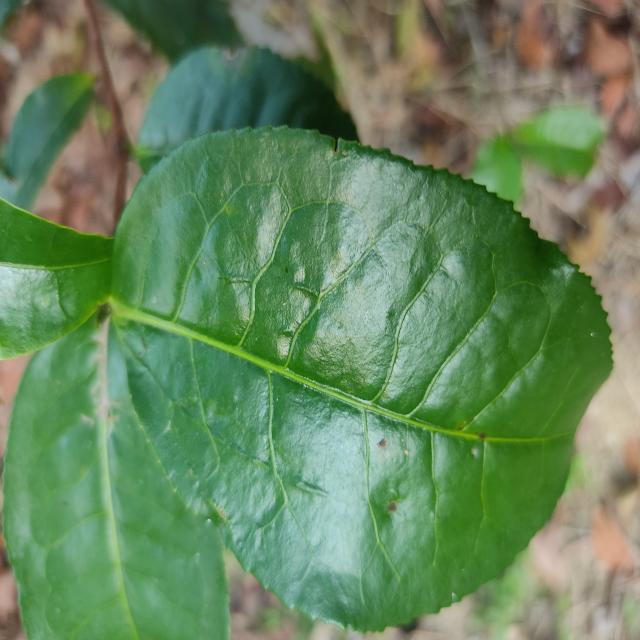Category D(7+ days, Not for Tea): (89, 109, 618, 636)
